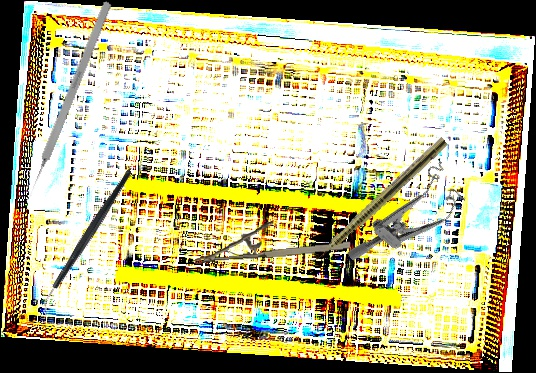Chopper: (5, 169, 170, 317)
Handpiece: (304, 135, 450, 271)
Hook Surgical: (25, 0, 113, 199)
Needle Holder: (192, 216, 351, 264)
Speculum: (346, 153, 474, 291)
